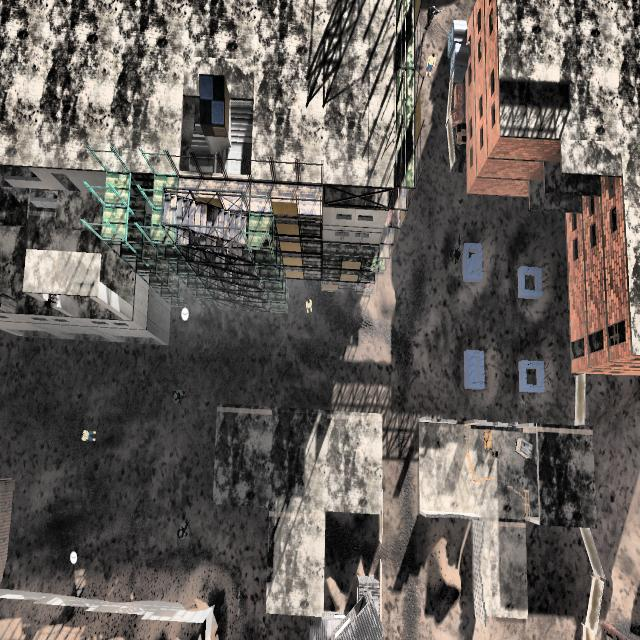bad: (171, 504, 195, 553), (448, 233, 467, 272), (168, 379, 190, 412), (423, 0, 440, 33)
good: (78, 414, 100, 453), (422, 44, 440, 84), (301, 289, 317, 321)
